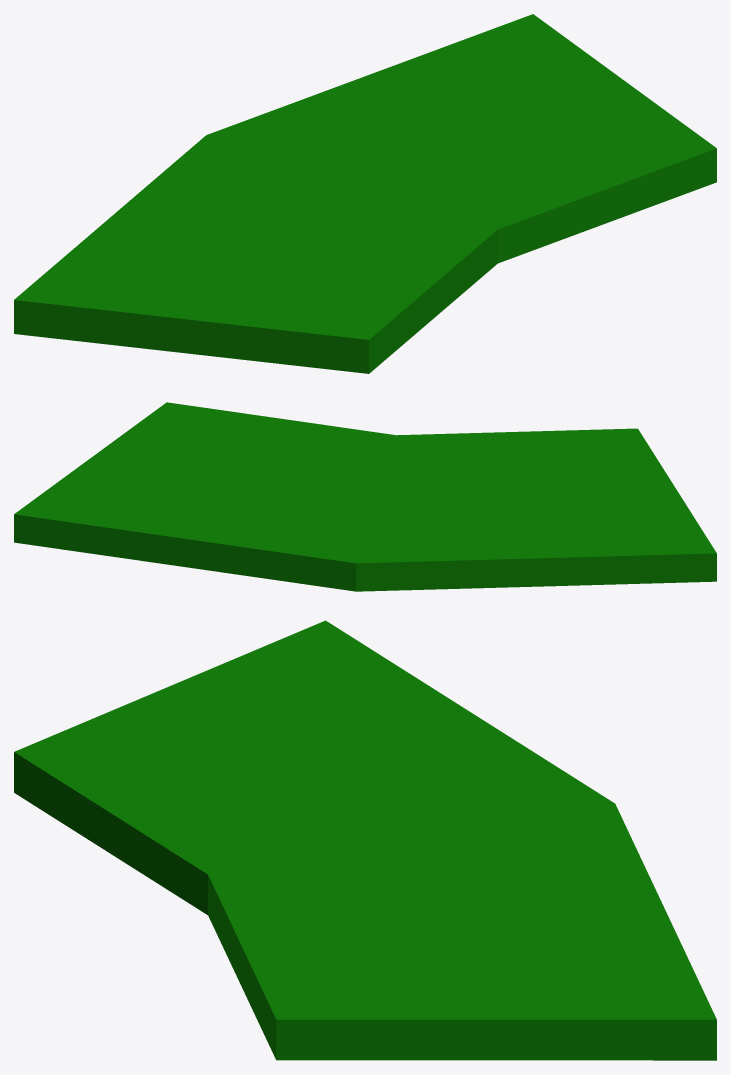
The model's file is Dest_PoisonFactory_Poision_Outter.FBX.
3 views of the same model, one above another, from view 1: azimuth 30°, elevation 25°; view 2: azimuth 150°, elevation 25°; view 3: azimuth 270°, elevation 25° (orthographic). The views are drawn at different scales.
Parts seen in each view (by area): view 1: Object001; view 2: Object001; view 3: Object001.
Boxes of the visible parts, x1,y1,x2,y2 form: Object001: (14, 14, 716, 373); Object001: (14, 402, 716, 591); Object001: (14, 620, 716, 1060).
Size of the model in its own units: 32.36 by 1.55 by 24.08.
